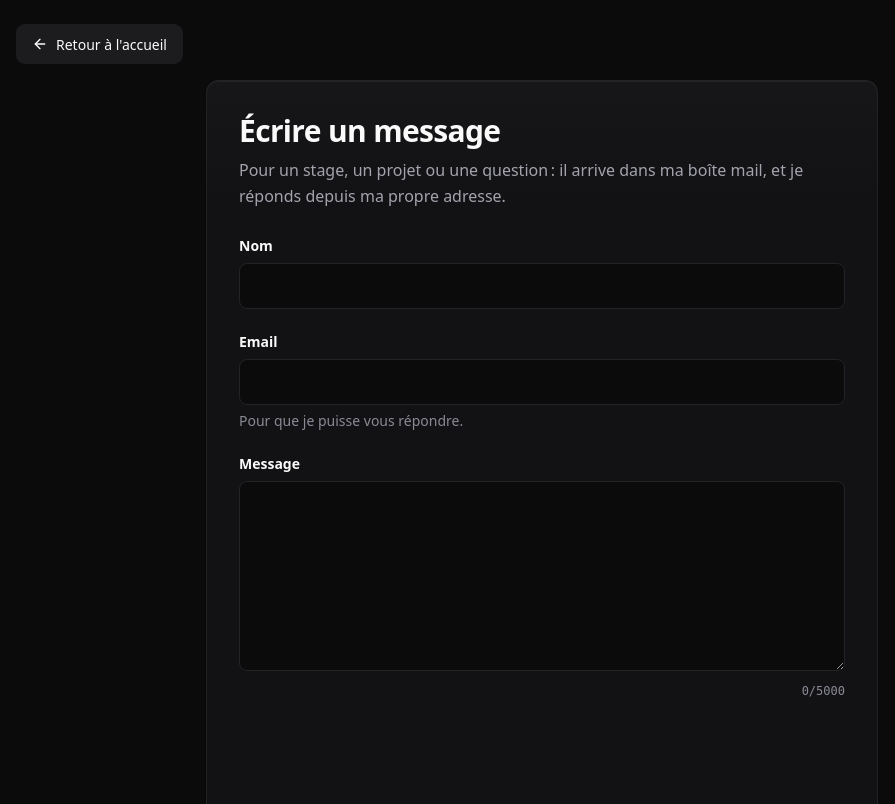
Test: ContactPage › redemande la vérification anti-robot quand le serveur la refuse
Type "Ada Lovelace" into the field labelled "Nom" at (542,286), box [239,263,845,309]
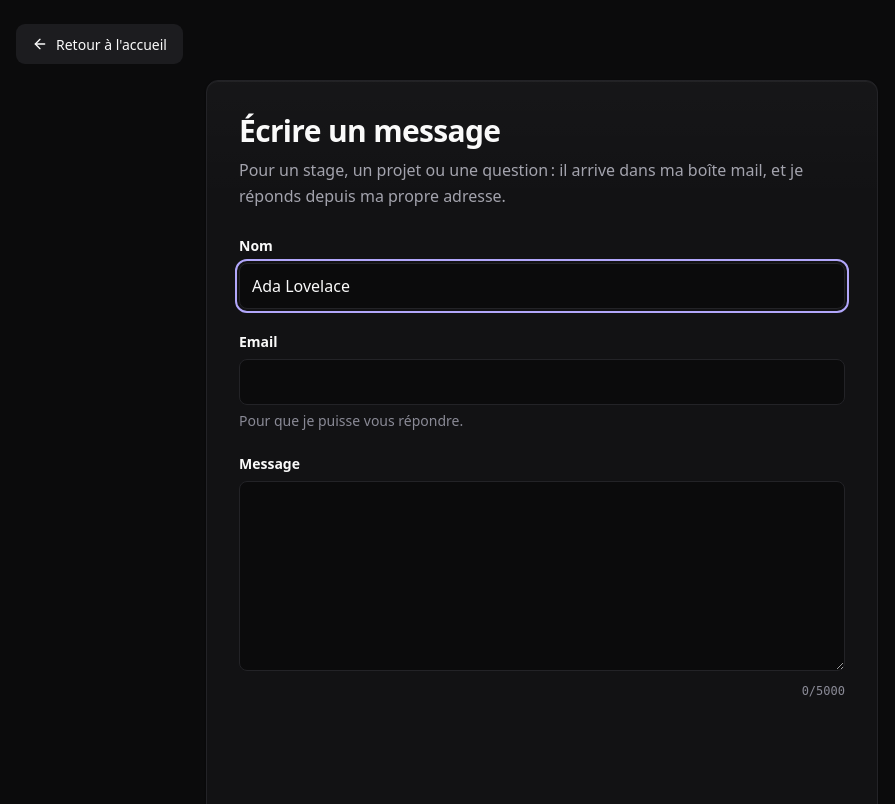
Type "ada@example.com" into the field labelled "Email" at (542,382), box [239,359,845,405]
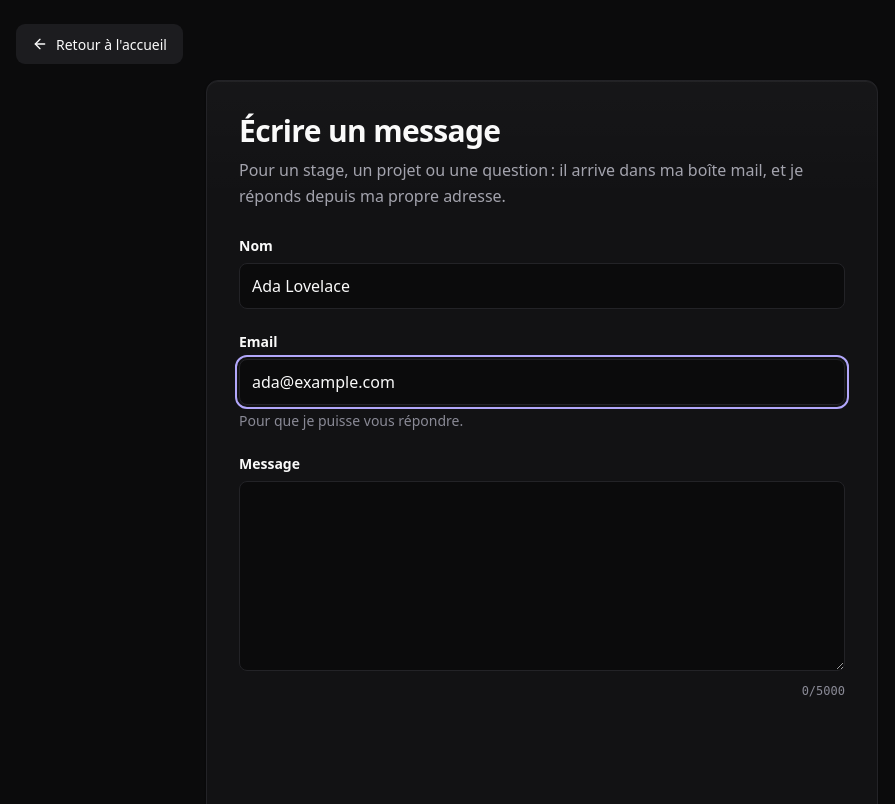
Type "Bonjour, parlons d'un stage en janvier." into the text box labelled "Message" at (542,576), box [239,481,845,671]
(page scrolled)
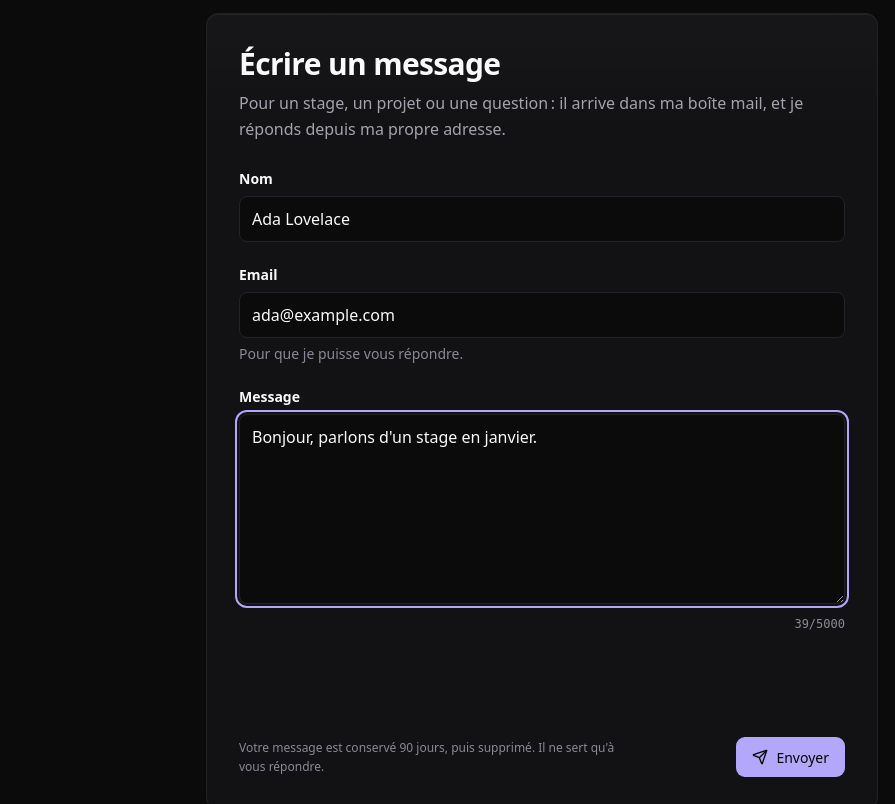
Click the button "Envoyer" at (791,757), box [736,737,845,777]
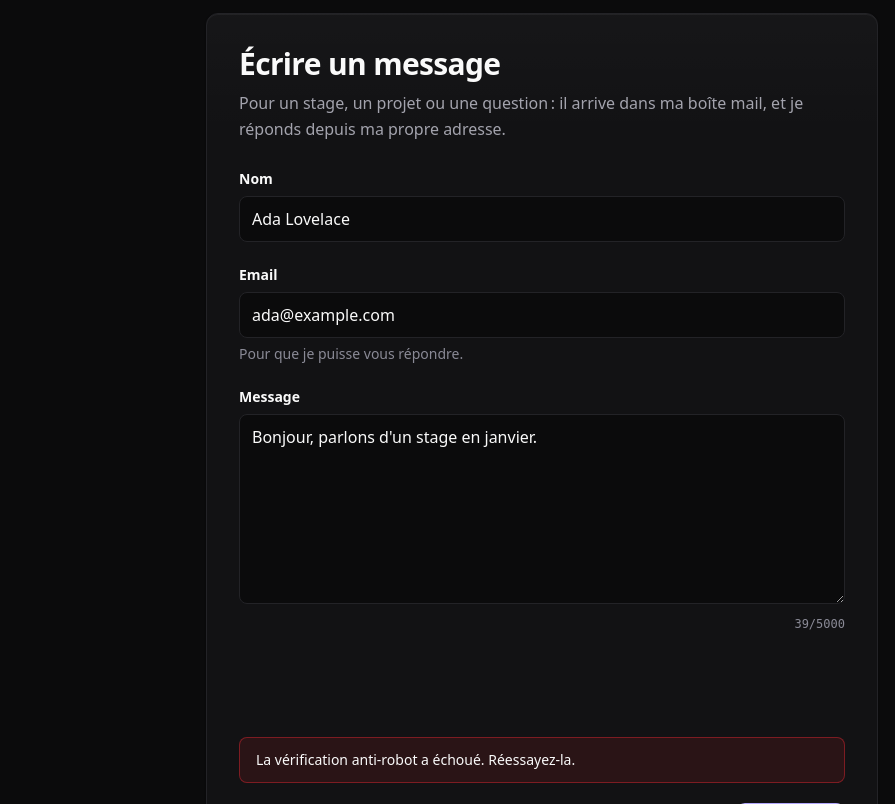
Now the message shows "vérification anti-robot a échoué", box [256,750,575,769]
